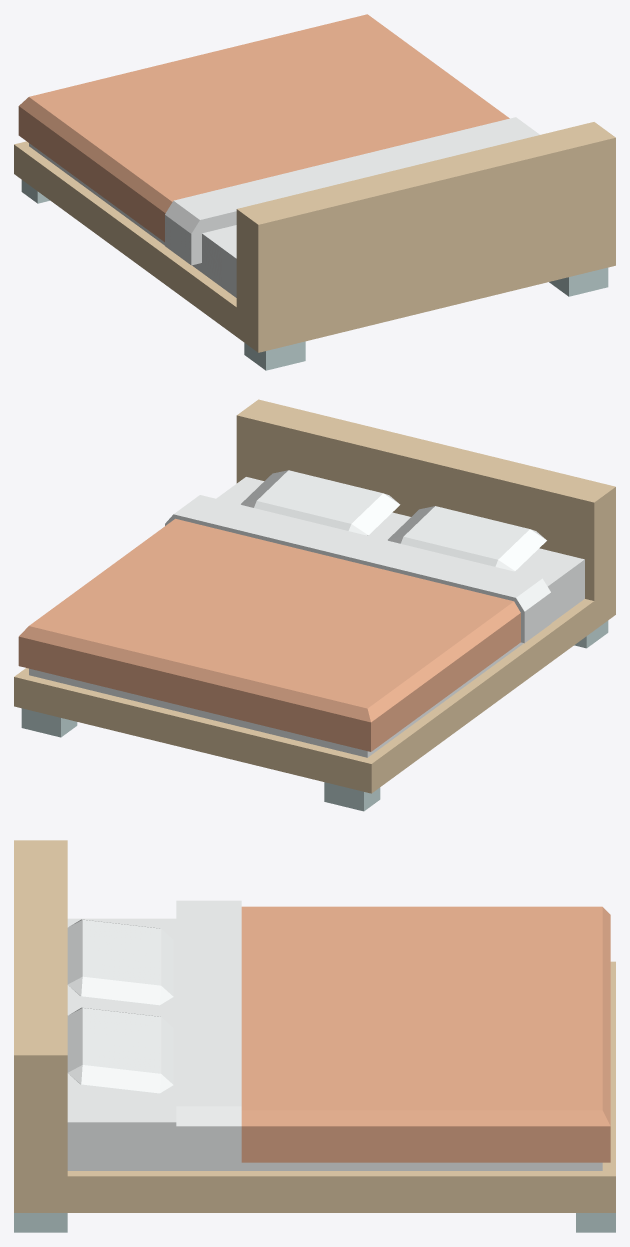
The model's file is bedDouble.glb.
The picture shows the model from 3 angles, top to bottom: view 1: azimuth 30°, elevation 25°; view 2: azimuth 150°, elevation 25°; view 3: azimuth 270°, elevation 25°; orthographic projection. The views are drawn at different scales.
Parts seen in each view (by area): view 1: bedDouble; view 2: bedDouble; view 3: bedDouble.
Boxes of the visible parts, bbox=[...] form: bedDouble: bbox=[14, 14, 615, 370]; bedDouble: bbox=[14, 399, 615, 811]; bedDouble: bbox=[14, 840, 615, 1232].
Size of the model in its own units: 9.56 by 3.75 by 11.25.
